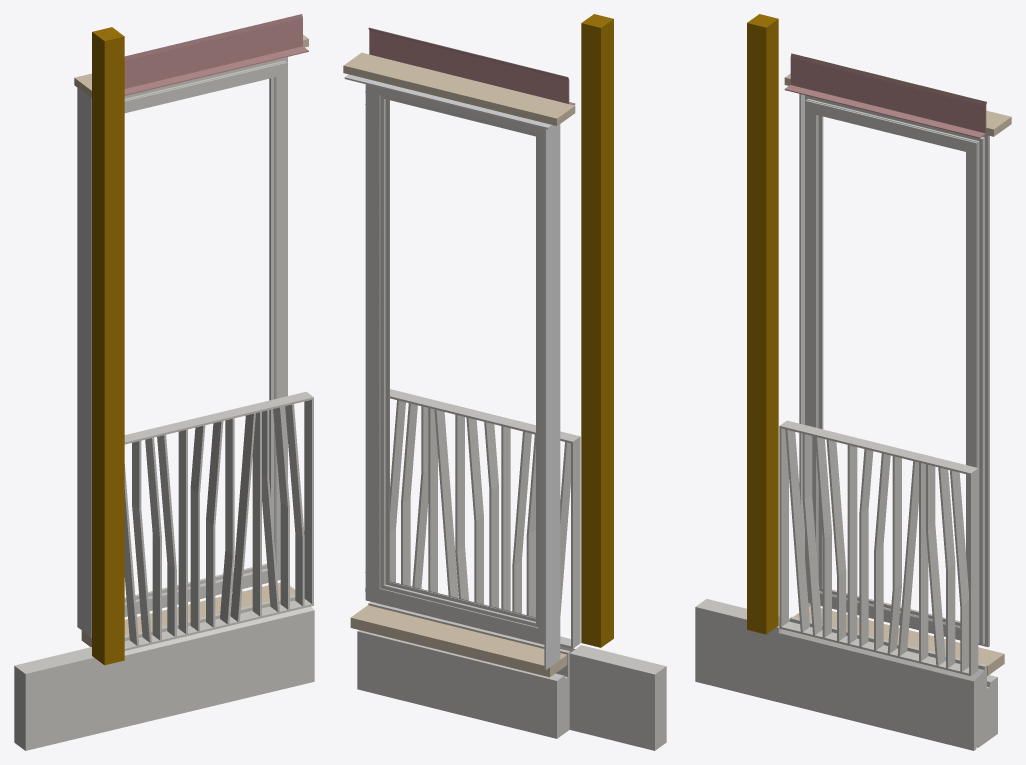
3 views of the same model, side by side, from view 1: azimuth 30°, elevation 25°; view 2: azimuth 150°, elevation 25°; view 3: azimuth 330°, elevation 25° (orthographic). The views are drawn at different scales.
Size of the model in its own units: 1.48 by 3.37 by 0.4151.
